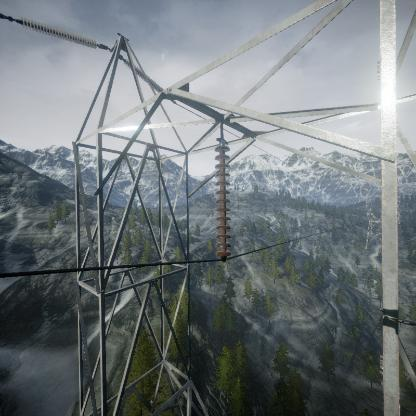insulator: (9, 15, 105, 51), (214, 138, 233, 258)
